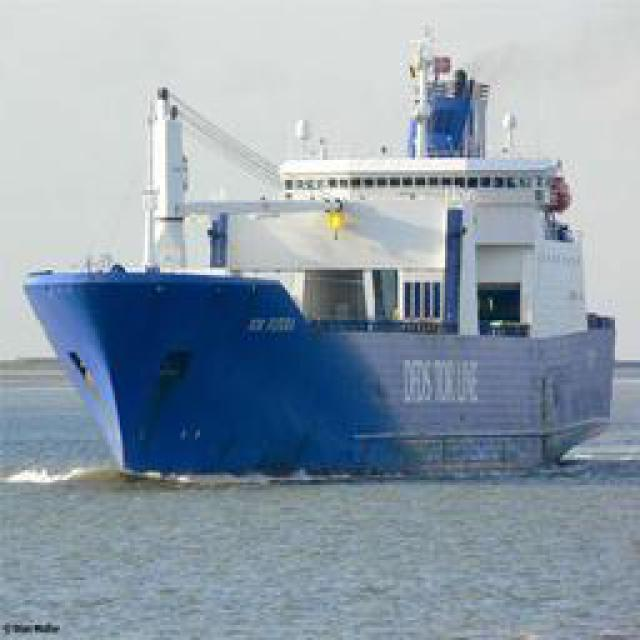Ship: (12, 27, 632, 488)
